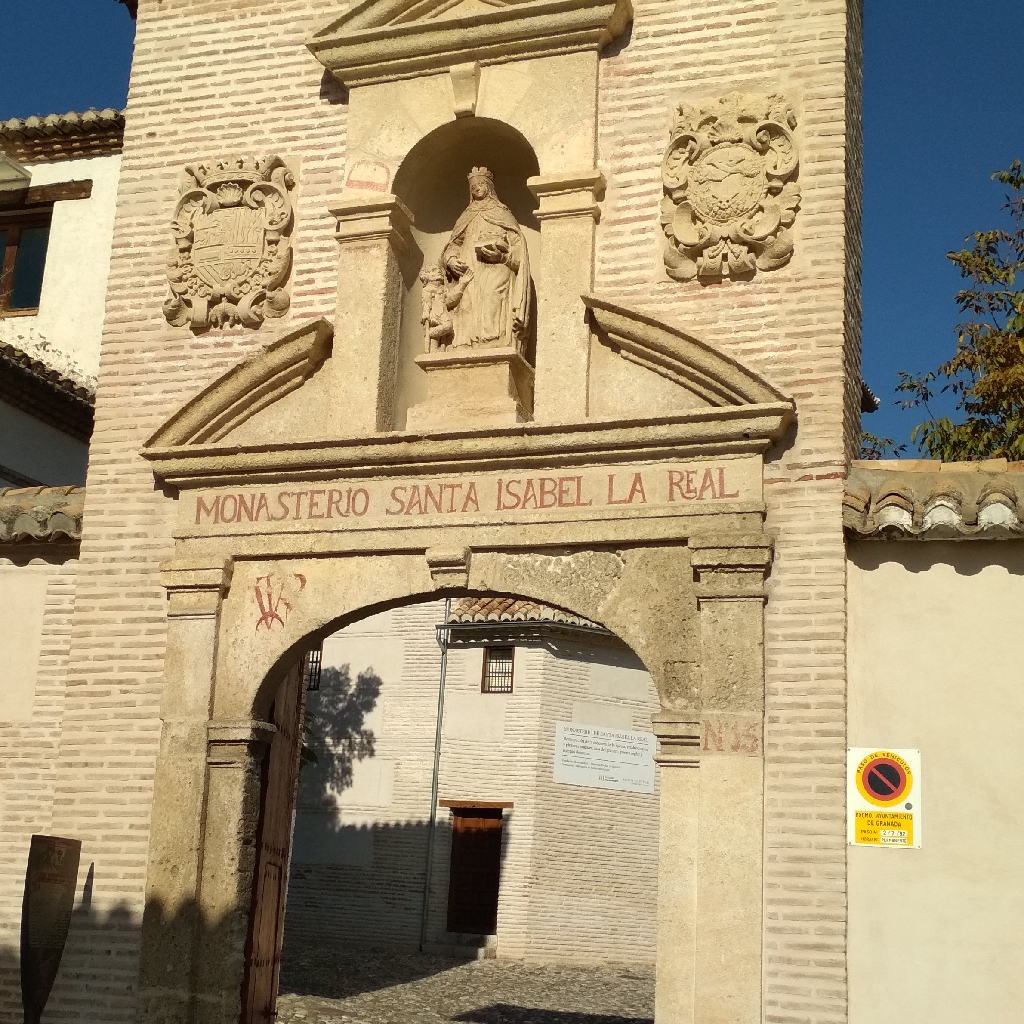arco-medio-punto: (383, 105, 553, 228)
fronton-partido: (145, 293, 802, 484)
